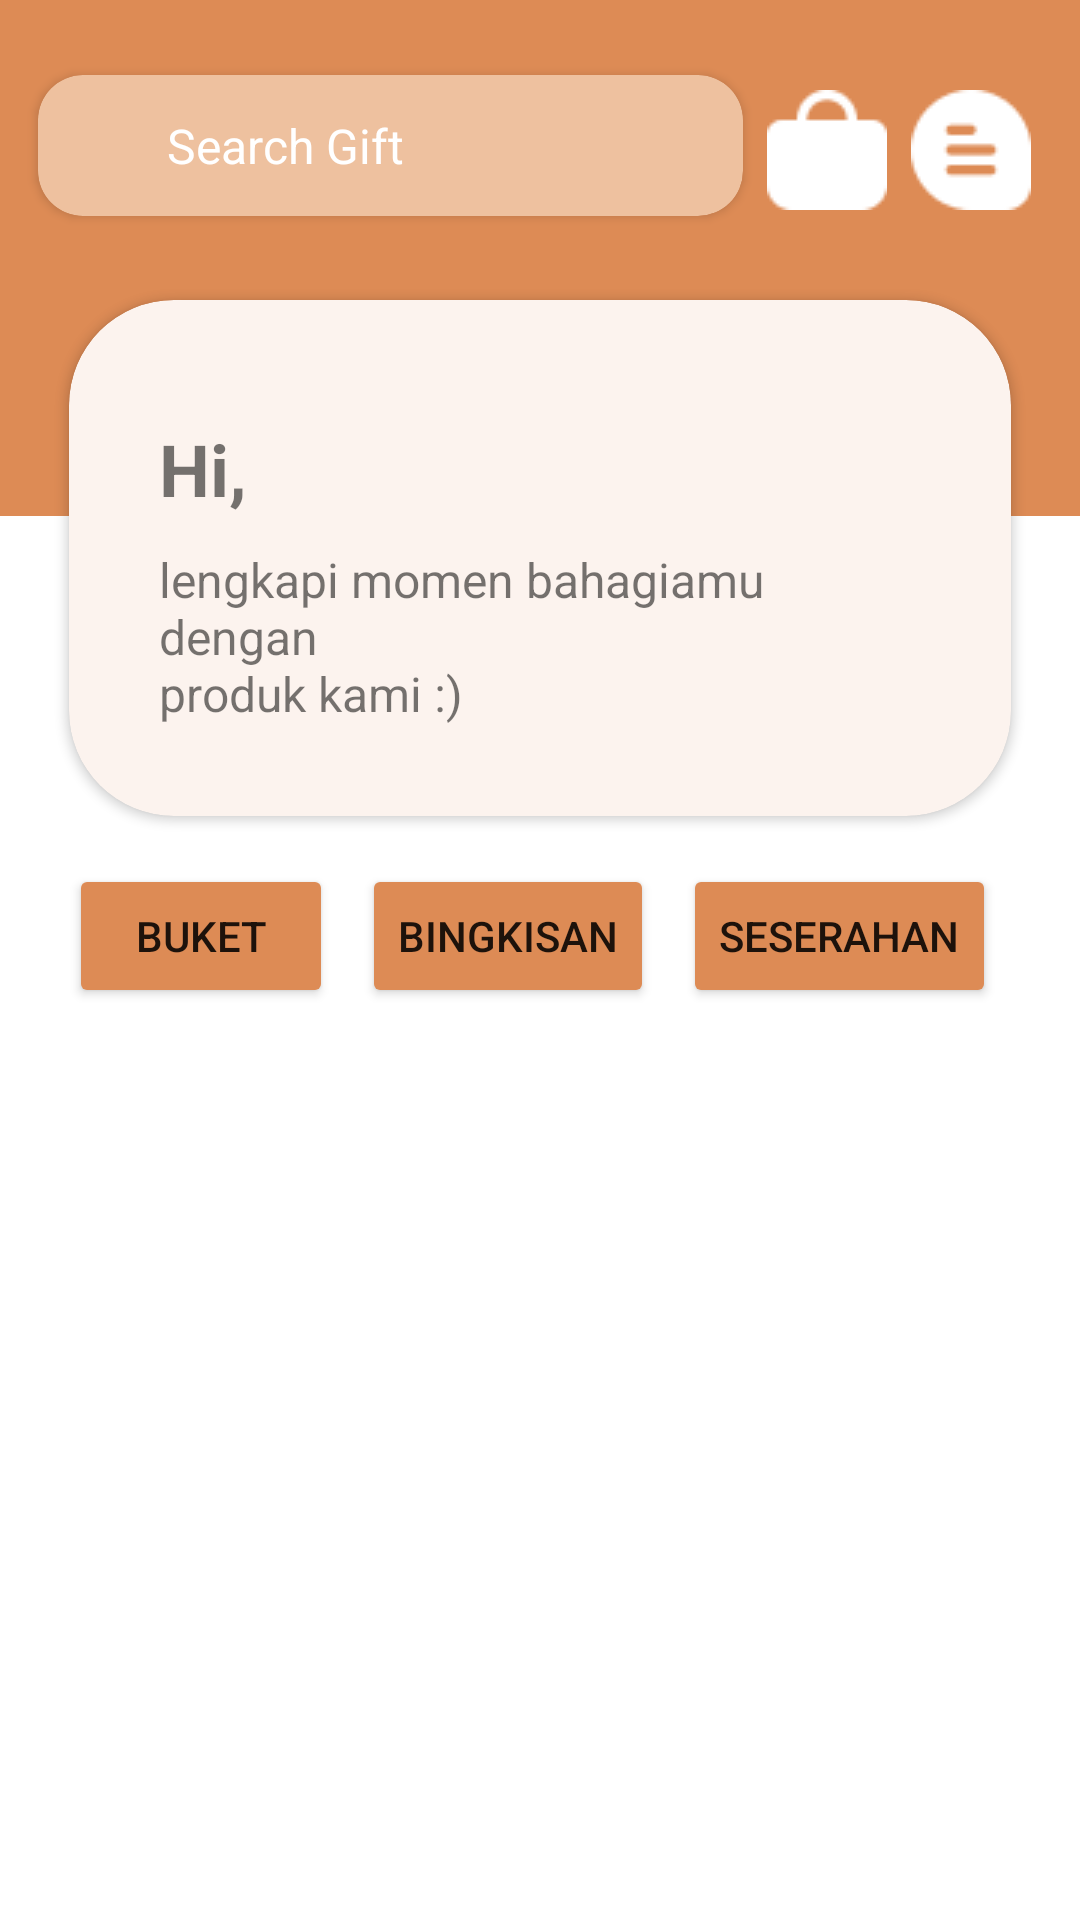

Screen size 1080*1920. Icon name, then its box in pixels as (x1, y1, x2, y2):
shopping: (767, 90, 887, 210)
